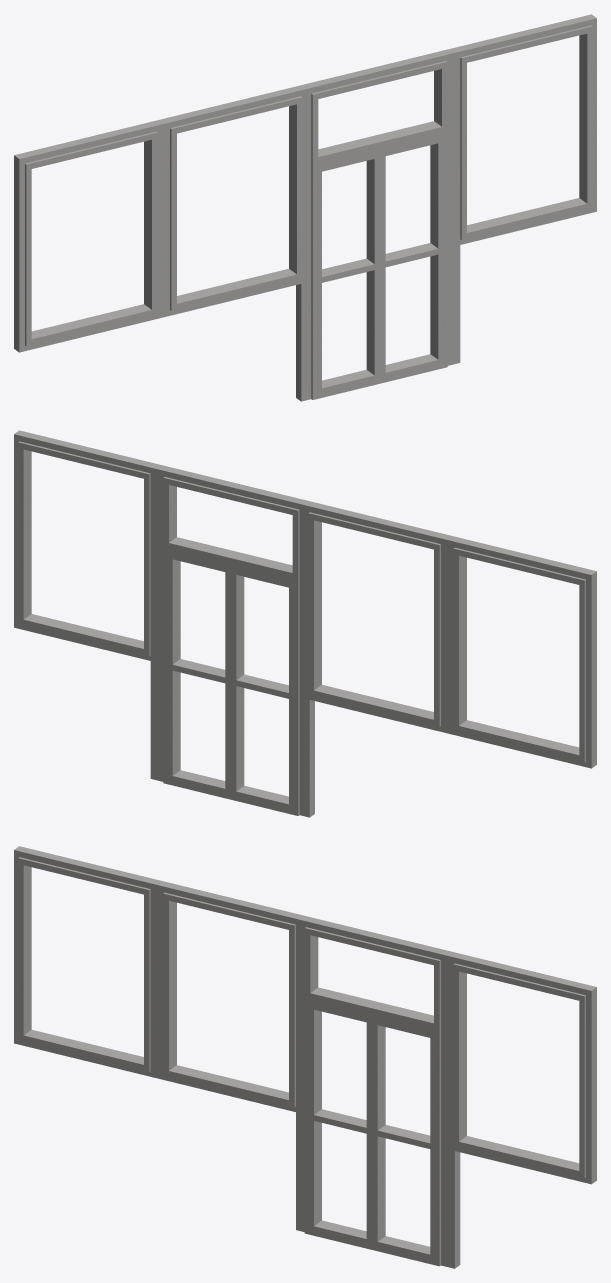
3 renders of one model, top to bottom at view 1: azimuth 30°, elevation 25°; view 2: azimuth 150°, elevation 25°; view 3: azimuth 330°, elevation 25°, orthographic.
Parts seen in each view (by area): view 1: okna_s_dvermi_v2 v2; view 2: okna_s_dvermi_v2 v2; view 3: okna_s_dvermi_v2 v2.
Boxes of the visible parts, box(x1,y1,x2,y2) form: okna_s_dvermi_v2 v2: box(14, 14, 596, 401); okna_s_dvermi_v2 v2: box(14, 430, 596, 817); okna_s_dvermi_v2 v2: box(14, 846, 596, 1268).
Bounding box in the file's own units: 6.25 × 0.15 × 3.22.
